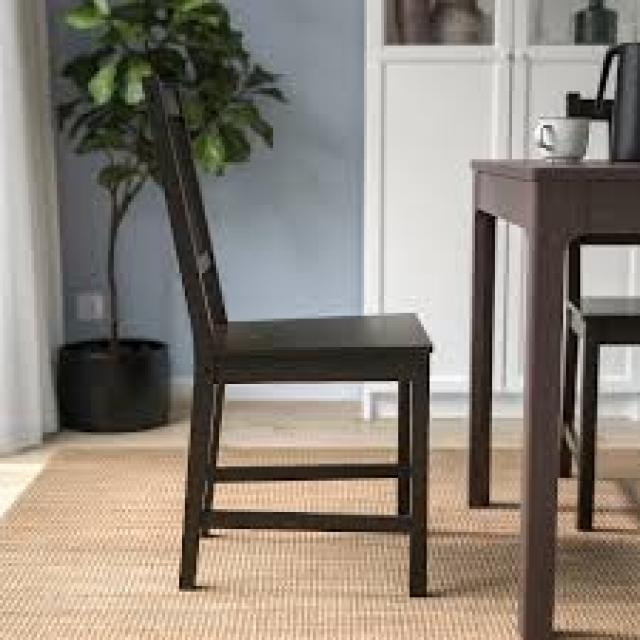chair: (141, 70, 439, 606)
